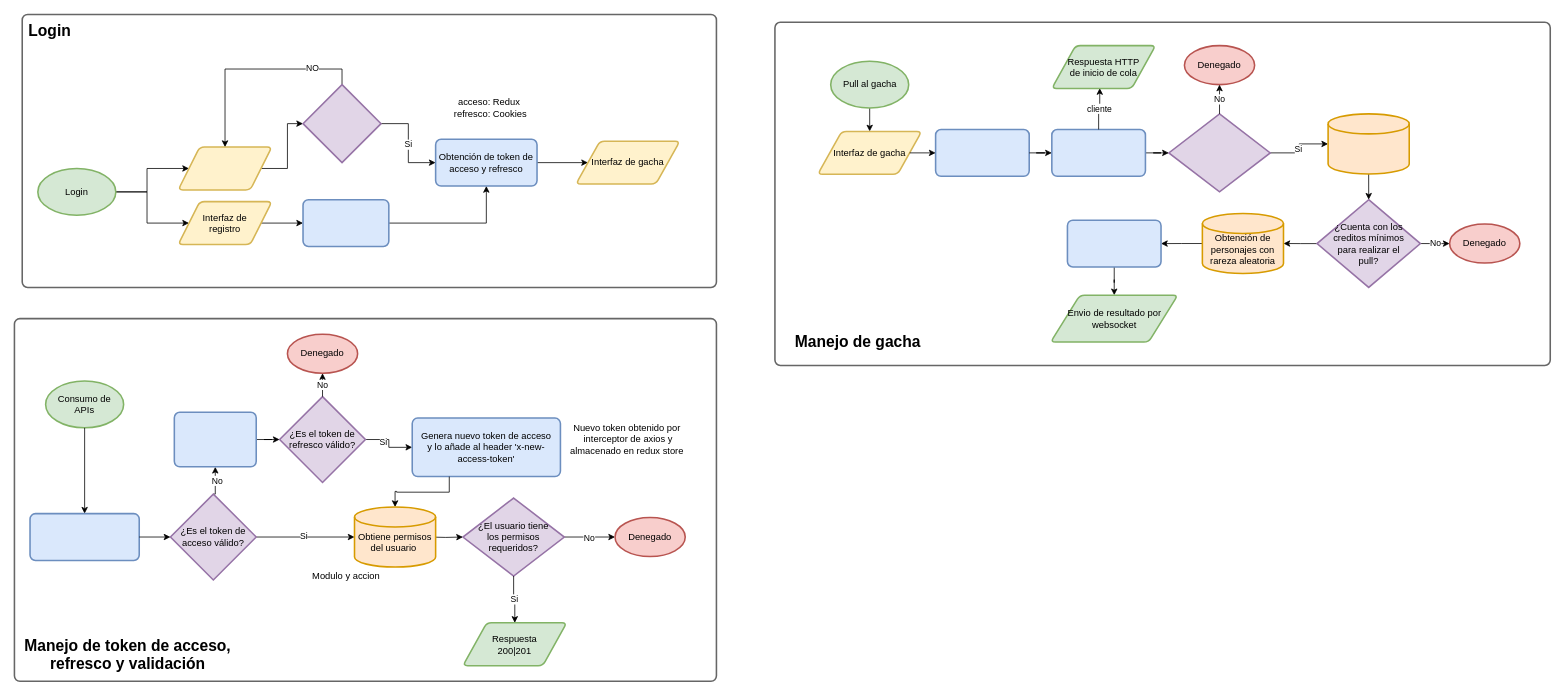
The diagram is 1564 pixels wide and 695 high, and some of its shapes have lost their labels. The shapes that lost their labels are listed below. From the top down, each one's centre as x and y in pixels, then its label:
At pixel 341 123: "¿Credenciales correctas".
At pixel 1368 143: "Obtiene la cantidad de creditos del usuario".
At pixel 224 168: "Interfaz de login".
At pixel 982 152: "Solicitud de cantidad de pulls y token adjunto".
At pixel 1098 152: "Añadido a cola con bull".
At pixel 1219 152: "¿Cumple con el manejo de tokens y validación?".
At pixel 345 223: "Creacion de usuario con rol 'user'".
At pixel 1113 243: "Actualización de personajes y creditos del usuario".
At pixel 215 439: "Obtiene token de refresco desde cookies y copia de redis".
At pixel 84 536: "Envio de token de autenticación y datos relevantes de la APi".
